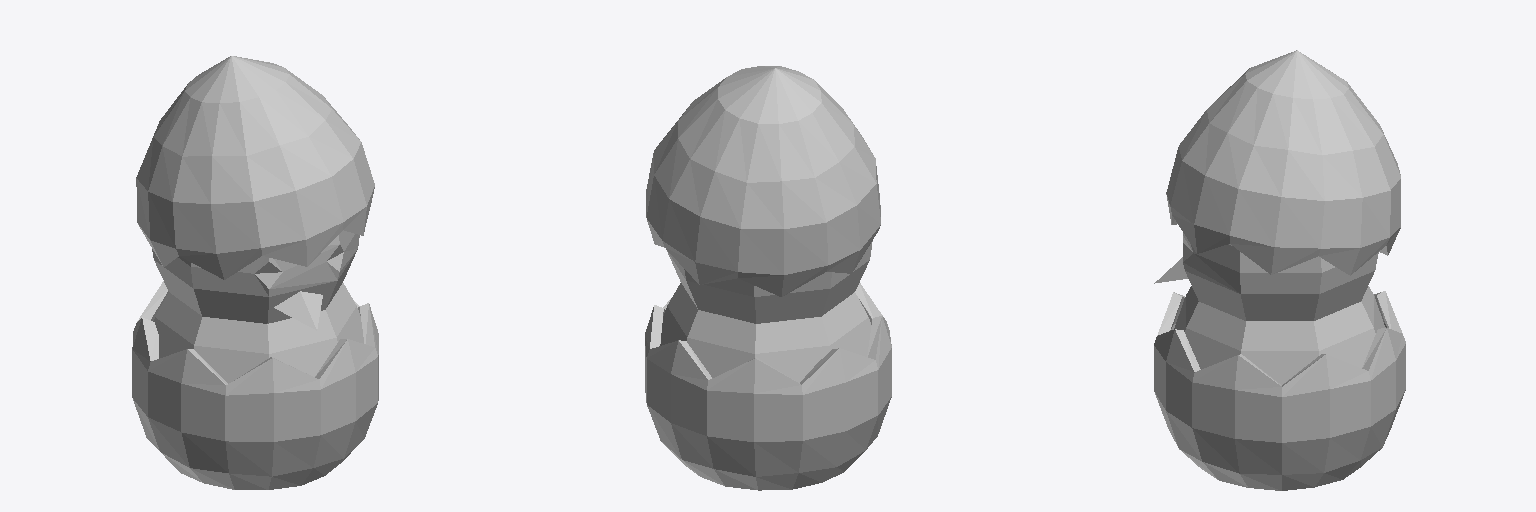
The model's file is sir_duckton.sgm.obj.
The picture shows the model from 3 angles: view 1: azimuth 30°, elevation 25°; view 2: azimuth 150°, elevation 25°; view 3: azimuth 270°, elevation 25°; orthographic projection.
Bounding box in the file's own units: 0.2071 × 0.3586 × 0.2071.